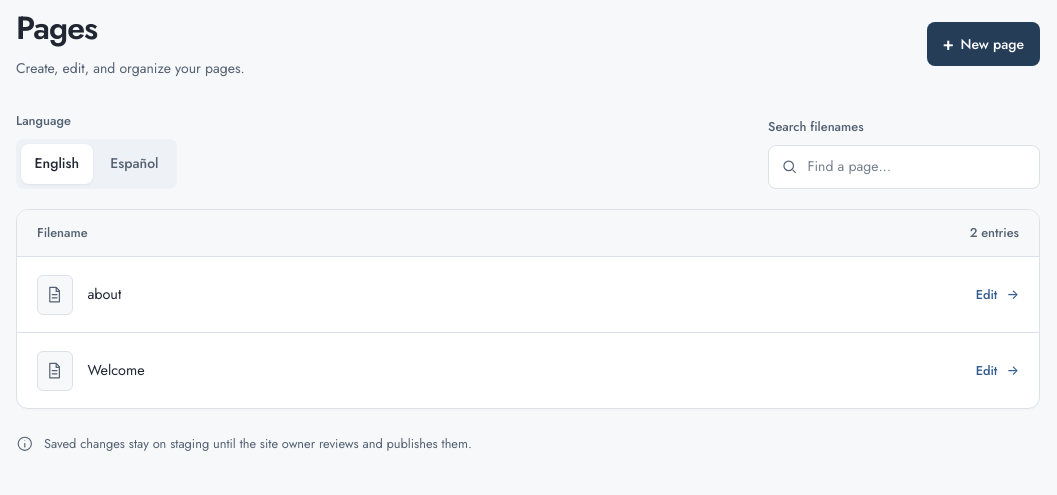
Test: CollectionList search › filters filenames without fetching more content and clears an empty result
Type " WELCOME " into the search field labelled "Search filenames" at [904, 167], box x1=768 y1=145 x2=1040 y2=189
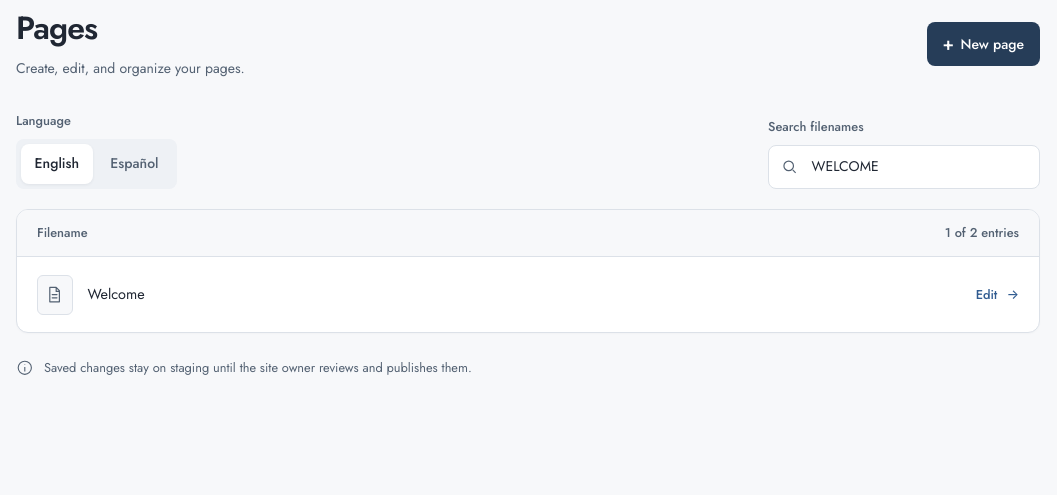
expect the number of links with class "collection-entry" is 1: met, box x1=37 y1=274 x2=1019 y2=314
Replace the text in the search field labelled "Search filenames" with "missing" at [904, 167], box x1=768 y1=145 x2=1040 y2=189
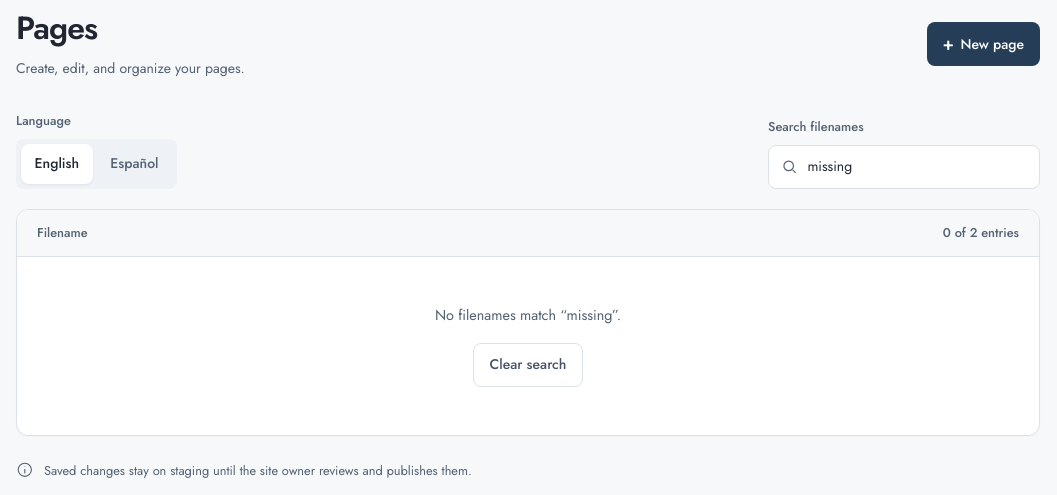
expect the text "No filenames match" is shown: met, box x1=435 y1=305 x2=621 y2=325
Click the button "Clear search" at [528, 364], box x1=472 y1=342 x2=584 y2=386
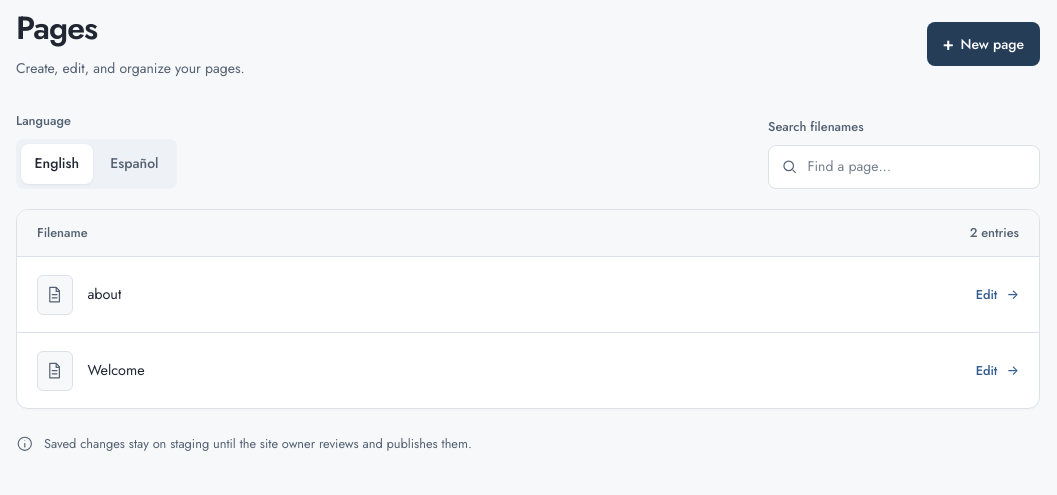
expect the number of links with class "collection-entry" is 2: met, box x1=37 y1=274 x2=1019 y2=314; x1=37 y1=351 x2=1019 y2=391
